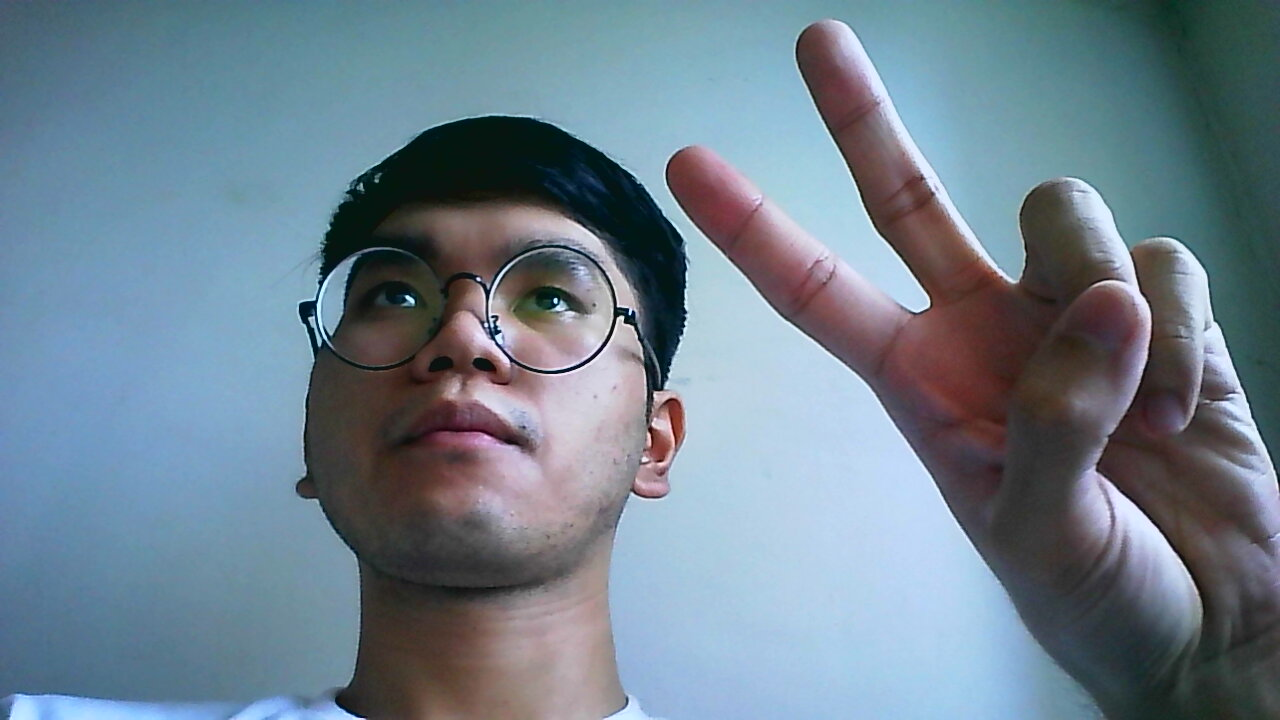peace: (664, 19, 1280, 719)
